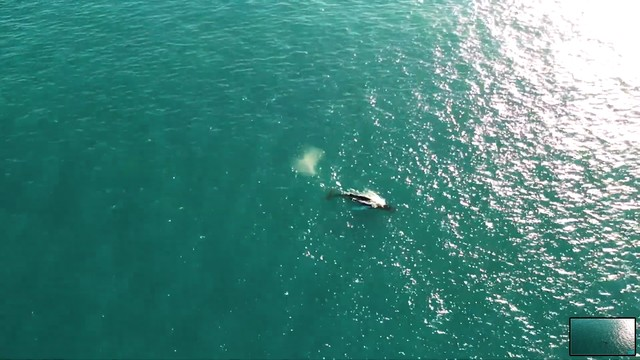whale: (311, 174, 396, 218)
